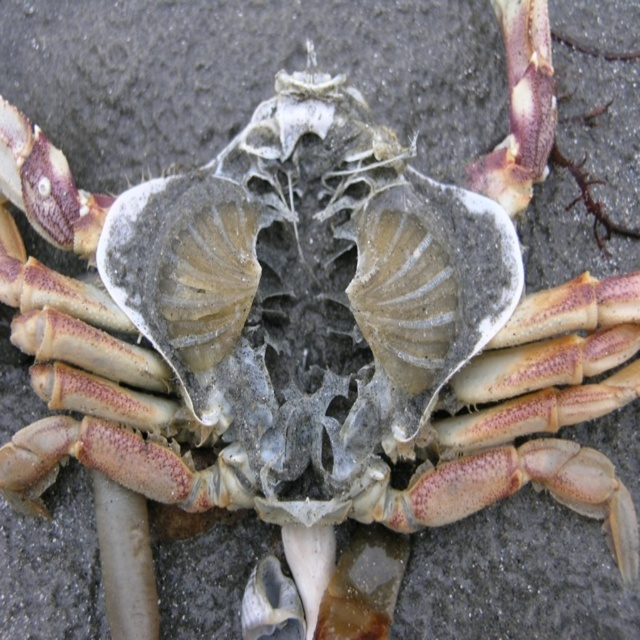Crab: (0, 0, 639, 593)
